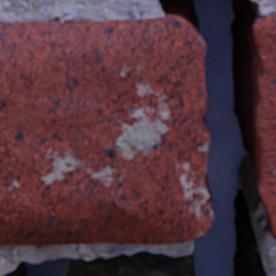broken_brick: (0, 16, 213, 243), (252, 14, 275, 237)
crack: (1, 0, 274, 275)
